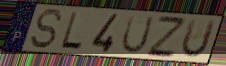4: (89, 12, 119, 54)
L: (58, 11, 84, 51)
S: (29, 8, 64, 51)
U: (180, 18, 218, 60), (119, 14, 156, 56)
Z: (145, 14, 187, 59)
